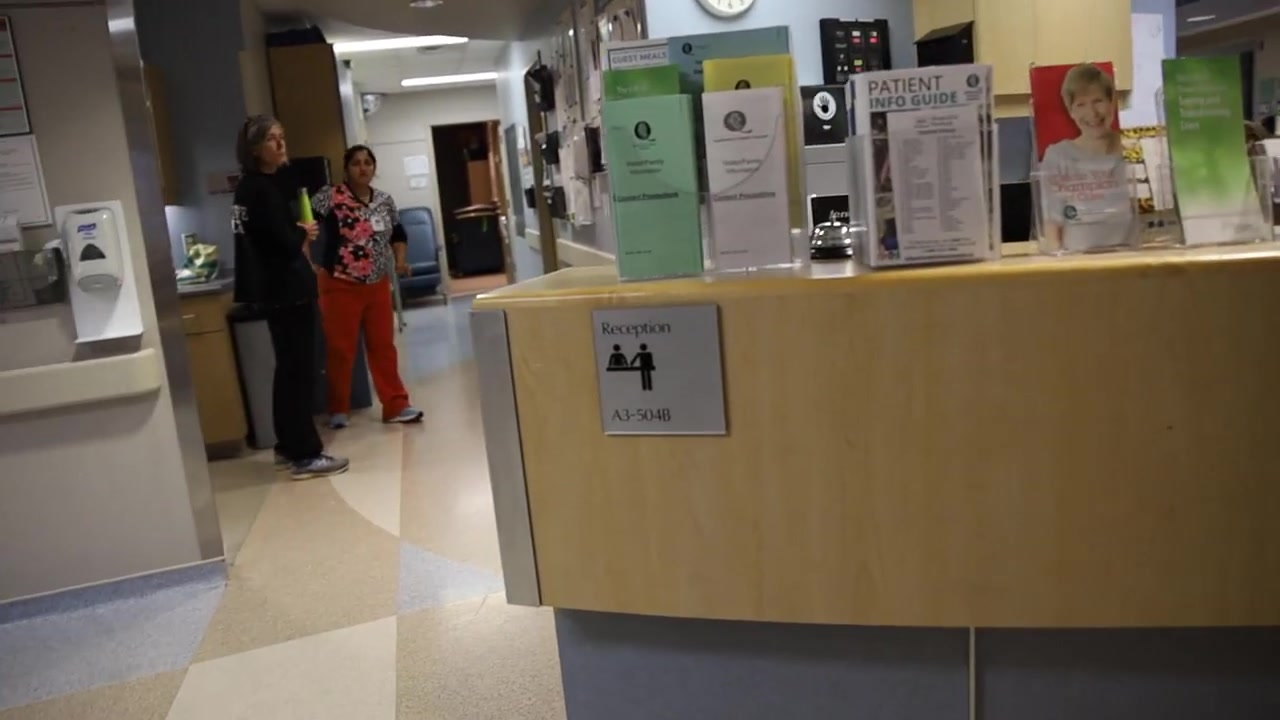cabinet: (919, 1, 1134, 114)
chair: (396, 208, 444, 310)
counter: (473, 243, 1280, 720), (175, 274, 250, 444)
dispenser: (56, 205, 129, 345), (569, 128, 602, 185)
hallway_assist_bar: (1, 346, 164, 419)
handle: (183, 313, 203, 321)
person: (231, 109, 349, 482), (305, 141, 423, 435)
waste_bin: (226, 305, 285, 451)
